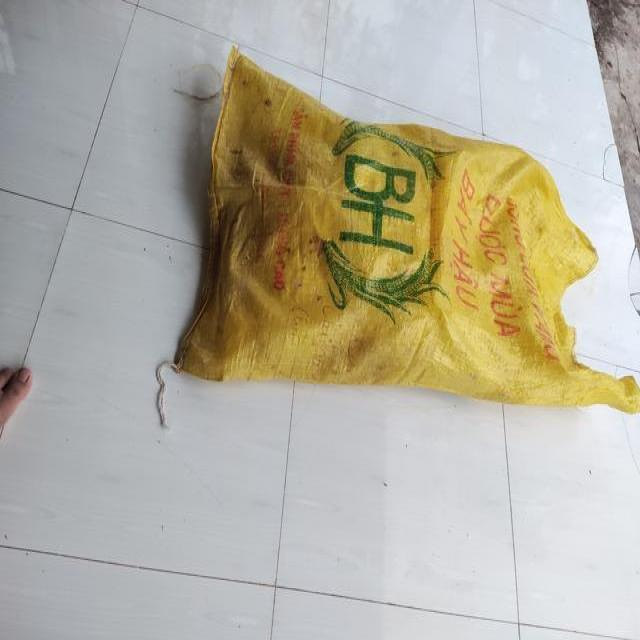gunny_bag: (175, 47, 640, 413)
